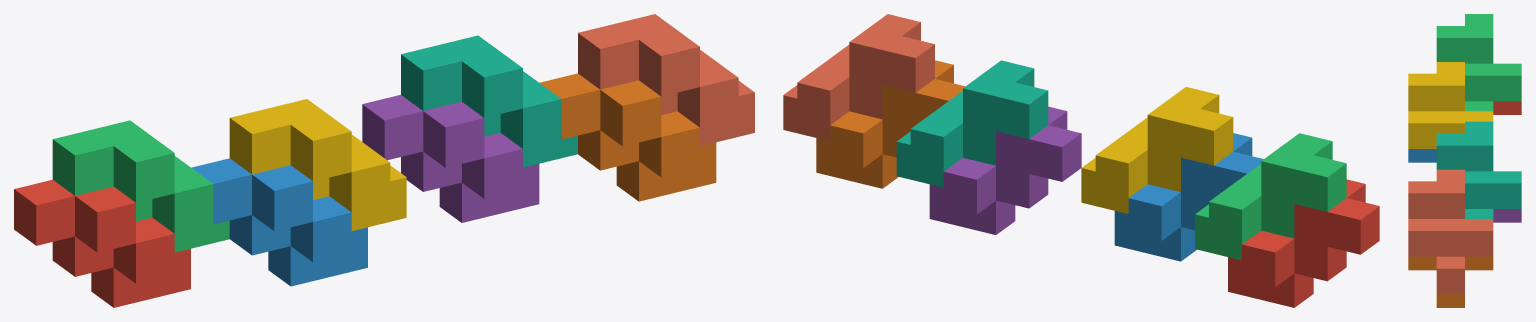
Rendered from tiling.obj.
The picture shows the model from 3 angles, left to right: view 1: azimuth 30°, elevation 25°; view 2: azimuth 150°, elevation 25°; view 3: azimuth 270°, elevation 25°; orthographic projection. The views are drawn at different scales.
Visible parts, largest first — view 1: copy_1_domain_1, copy_1_domain_5, copy_1_domain_6, copy_1_domain_2, copy_1_domain_4, copy_1_domain_8, copy_1_domain_3, copy_1_domain_7; view 2: copy_1_domain_4, copy_1_domain_7, copy_1_domain_3, copy_1_domain_8, copy_1_domain_5, copy_1_domain_1, copy_1_domain_2, copy_1_domain_6; view 3: copy_1_domain_8, copy_1_domain_3, copy_1_domain_7, copy_1_domain_4, copy_1_domain_6, copy_1_domain_1, copy_1_domain_2, copy_1_domain_5.
Part boxes in pixels (x1,y1,x2,y2): copy_1_domain_1: (14, 179, 190, 307); copy_1_domain_5: (362, 94, 539, 222); copy_1_domain_6: (539, 73, 716, 201); copy_1_domain_2: (191, 158, 367, 286); copy_1_domain_4: (229, 99, 406, 230); copy_1_domain_8: (578, 14, 754, 145); copy_1_domain_3: (52, 120, 229, 252); copy_1_domain_7: (401, 35, 577, 167); copy_1_domain_4: (1081, 87, 1233, 213); copy_1_domain_7: (896, 60, 1048, 187); copy_1_domain_3: (1195, 133, 1346, 260); copy_1_domain_8: (783, 14, 934, 141); copy_1_domain_5: (929, 106, 1081, 234); copy_1_domain_1: (1228, 179, 1379, 307); copy_1_domain_2: (1114, 133, 1263, 261); copy_1_domain_6: (816, 60, 964, 188); copy_1_domain_8: (1408, 169, 1493, 294); copy_1_domain_3: (1436, 14, 1521, 111); copy_1_domain_7: (1436, 121, 1521, 218); copy_1_domain_4: (1408, 62, 1493, 148); copy_1_domain_6: (1408, 256, 1493, 307); copy_1_domain_1: (1493, 101, 1521, 114); copy_1_domain_2: (1408, 149, 1436, 162); copy_1_domain_5: (1493, 209, 1521, 222).
Size of the model in its own units: 18 by 4 by 4.
